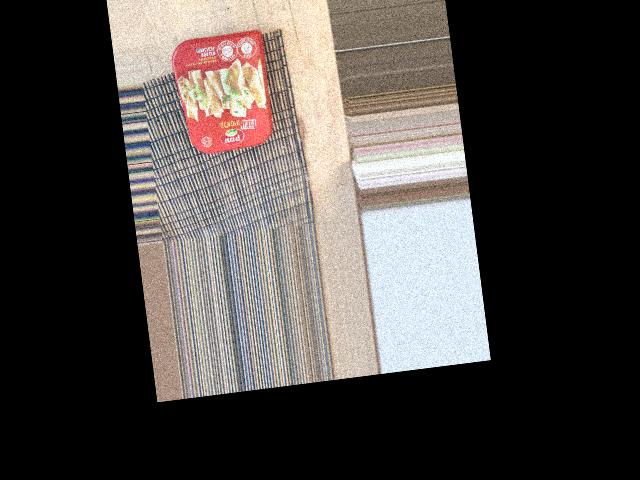cheese: (150, 101, 282, 208)
